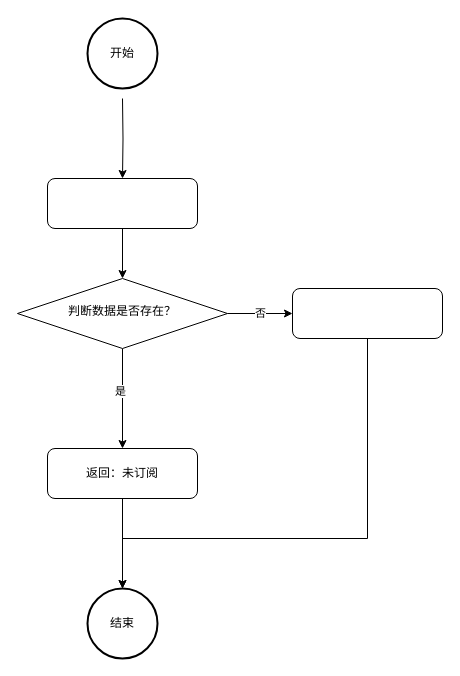
Some shapes in this 460 by 676 pixel diagram are drawn without their labels. Each missing label, with the centre of its shape:
"查询数据，条件：player_id = XXX and status = 'UNSUBSCRIBE'" goes at pixel 122 203.
"返回：已订阅" goes at pixel 367 313.
